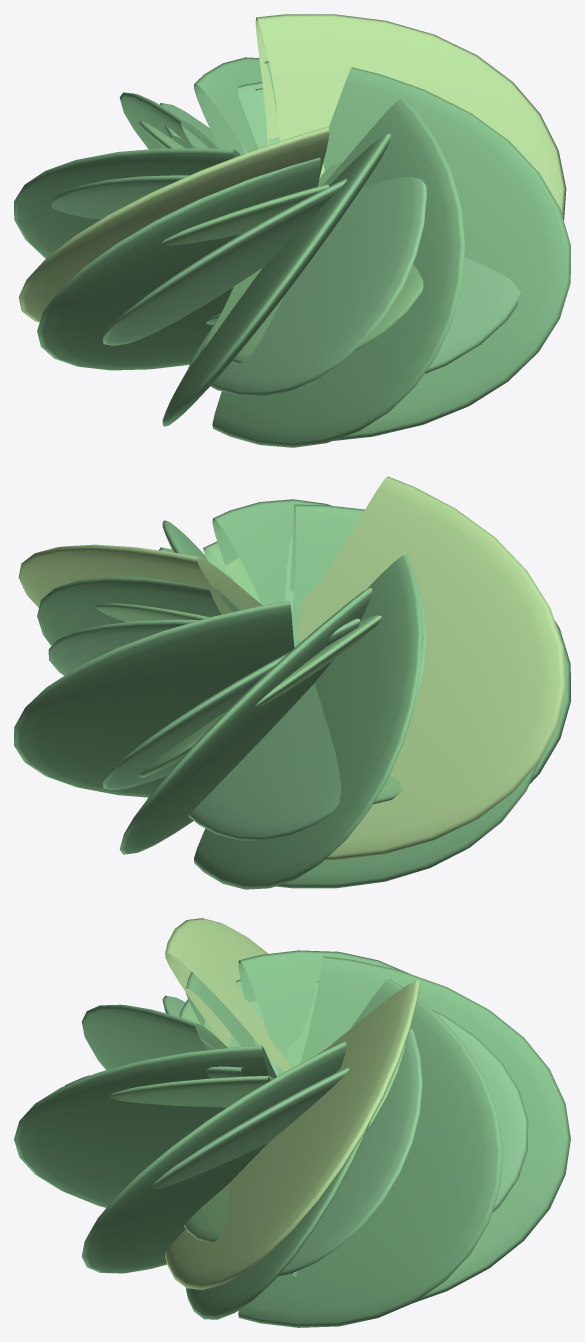
Rendered from cabbage.glb.
3 renders of one model, top to bottom at view 1: azimuth 30°, elevation 25°; view 2: azimuth 150°, elevation 25°; view 3: azimuth 270°, elevation 25°, orthographic. The views are drawn at different scales.
Parts seen in each view (by area): view 1: Outer_Leaf_8.001, Outer_Leaf_7.001, Cotyledon_1, Middle_Leaf_5, Outer_Leaf_5.001, Cotyledon_2, Outer_Leaf_6.001, Middle_Leaf_4, Outer_Leaf_4.001, Middle_Leaf_6, Outer_Leaf_2.001, Middle_Leaf_3 (+5 smaller); view 2: Cotyledon_2, Outer_Leaf_2.001, Outer_Leaf_4.001, Middle_Leaf_3, Outer_Leaf_3.001, Cotyledon_1, Outer_Leaf_1.001, Outer_Leaf_5.001, Outer_Leaf_7.001, Outer_Leaf_6.001, Middle_Leaf_2, Middle_Leaf_1 (+4 smaller); view 3: Outer_Leaf_2.001, Cotyledon_1, Outer_Leaf_7.001, Outer_Leaf_3.001, Outer_Leaf_8.001, Middle_Leaf_1, Cotyledon_2, Outer_Leaf_4.001, Outer_Leaf_6.001, Middle_Leaf_6, Outer_Leaf_1.001, Middle_Leaf_2 (+4 smaller).
Part boxes in pixels (box(x1,y1,x2,y2)): Outer_Leaf_8.001: box(323, 67, 570, 440); Outer_Leaf_7.001: box(212, 97, 465, 447); Cotyledon_1: box(255, 14, 566, 219); Middle_Leaf_5: box(188, 176, 426, 396); Outer_Leaf_5.001: box(37, 157, 320, 370); Cotyledon_2: box(18, 127, 329, 322); Outer_Leaf_6.001: box(162, 134, 390, 426); Middle_Leaf_4: box(102, 178, 347, 345); Outer_Leaf_4.001: box(14, 148, 240, 258); Middle_Leaf_6: box(424, 257, 520, 373); Outer_Leaf_2.001: box(194, 57, 262, 154); Middle_Leaf_3: box(51, 175, 189, 219); Cotyledon_2: box(298, 476, 566, 860); Outer_Leaf_2.001: box(14, 601, 294, 797); Outer_Leaf_4.001: box(194, 554, 422, 889); Middle_Leaf_3: box(188, 579, 426, 840); Outer_Leaf_3.001: box(119, 588, 372, 854); Cotyledon_1: box(18, 544, 262, 614); Outer_Leaf_1.001: box(37, 576, 239, 645); Outer_Leaf_5.001: box(275, 762, 539, 888); Outer_Leaf_7.001: box(212, 499, 331, 605); Outer_Leaf_6.001: box(289, 504, 570, 784); Middle_Leaf_2: box(102, 618, 359, 789); Middle_Leaf_1: box(48, 619, 199, 675); Outer_Leaf_2.001: box(238, 979, 503, 1327); Cotyledon_1: box(165, 980, 419, 1289); Outer_Leaf_7.001: box(14, 1045, 276, 1207); Outer_Leaf_3.001: box(300, 956, 570, 1302); Outer_Leaf_8.001: box(81, 1042, 346, 1273); Middle_Leaf_1: box(278, 1029, 422, 1276); Cotyledon_2: box(165, 918, 291, 1071); Outer_Leaf_4.001: box(238, 950, 409, 1075); Outer_Leaf_6.001: box(82, 1004, 227, 1070); Middle_Leaf_6: box(151, 1067, 349, 1188); Outer_Leaf_1.001: box(186, 1121, 370, 1319); Middle_Leaf_2: box(292, 1010, 528, 1278).
Size of the model in its own units: 2.3 by 1.33 by 2.16.
